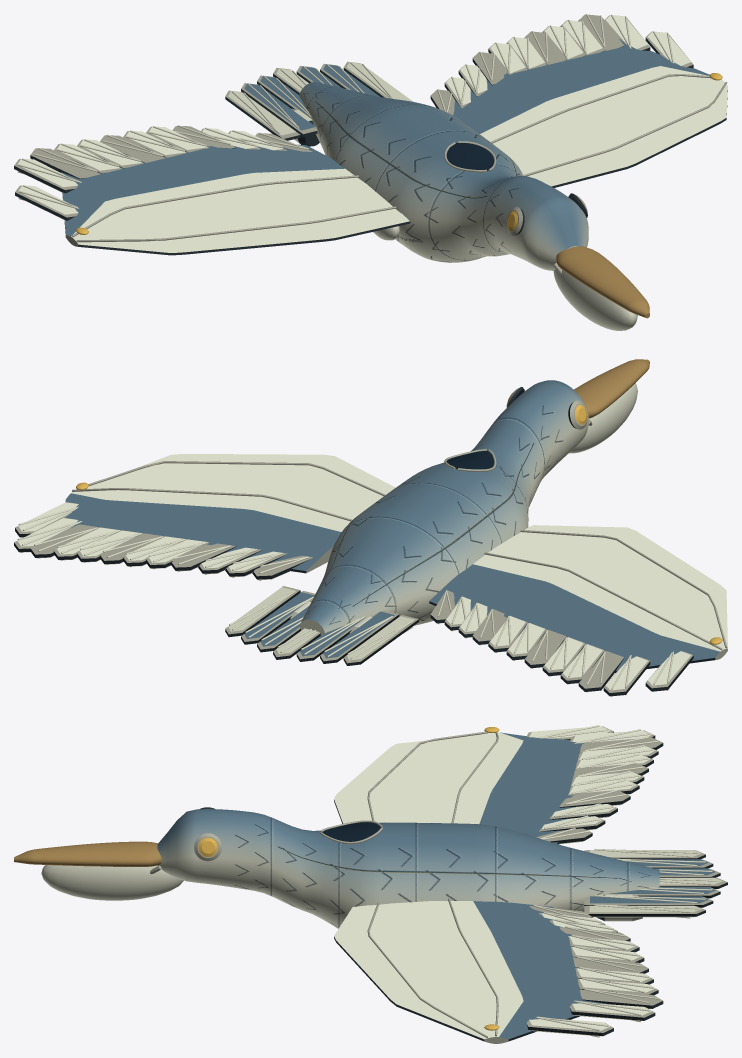
The model's file is pelican.glb.
3 renders of one model, top to bottom at view 1: azimuth 30°, elevation 25°; view 2: azimuth 150°, elevation 25°; view 3: azimuth 270°, elevation 25°, orthographic. The views are drawn at different scales.
Visible parts, largest first — view 1: pelican_hull; view 2: pelican_hull; view 3: pelican_hull.
Boxes of the visible parts, x1,y1,x2,y2 form: pelican_hull: [14, 14, 727, 330]; pelican_hull: [14, 359, 727, 696]; pelican_hull: [14, 725, 727, 1043].
Size of the model in its own units: 256 by 48.55 by 252.
Materials: 1 (1 with a texture image).
